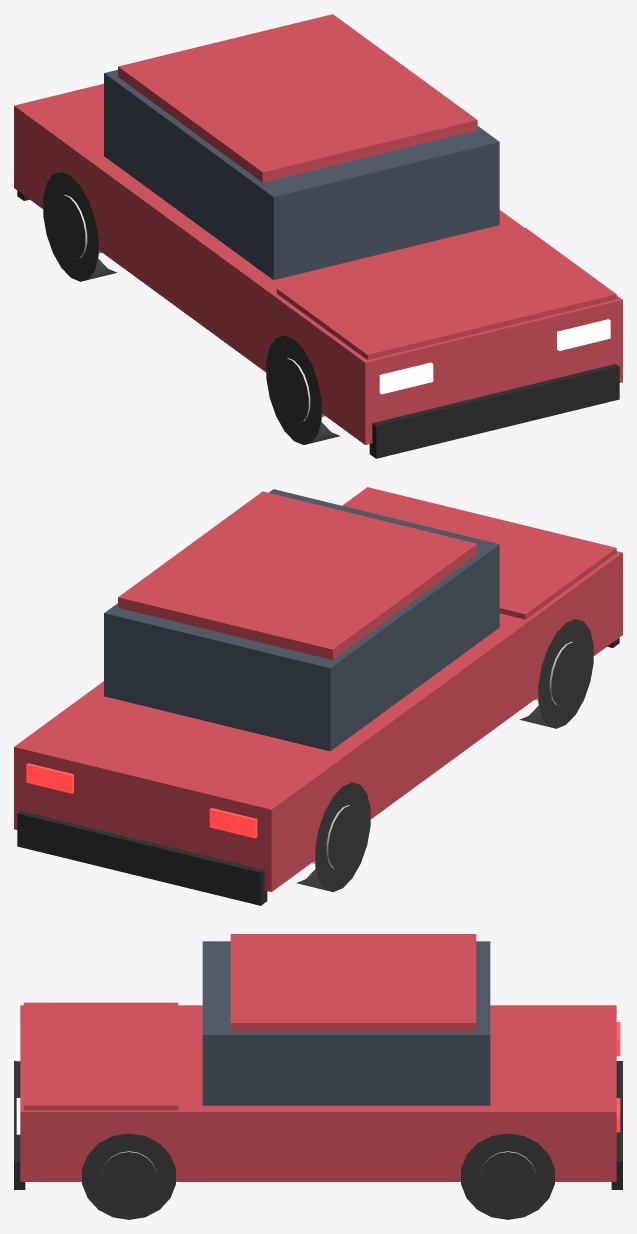
The model's file is coche.glb.
3 renders of one model, top to bottom at view 1: azimuth 30°, elevation 25°; view 2: azimuth 150°, elevation 25°; view 3: azimuth 270°, elevation 25°, orthographic. The views are drawn at different scales.
Parts seen in each view (by area): view 1: coche; view 2: coche; view 3: coche.
Part boxes in pixels (bbox=[...]): coche: bbox=[14, 14, 622, 458]; coche: bbox=[14, 487, 622, 905]; coche: bbox=[14, 934, 622, 1219].
Size of the model in its own units: 1.92 by 1.46 by 4.34.
